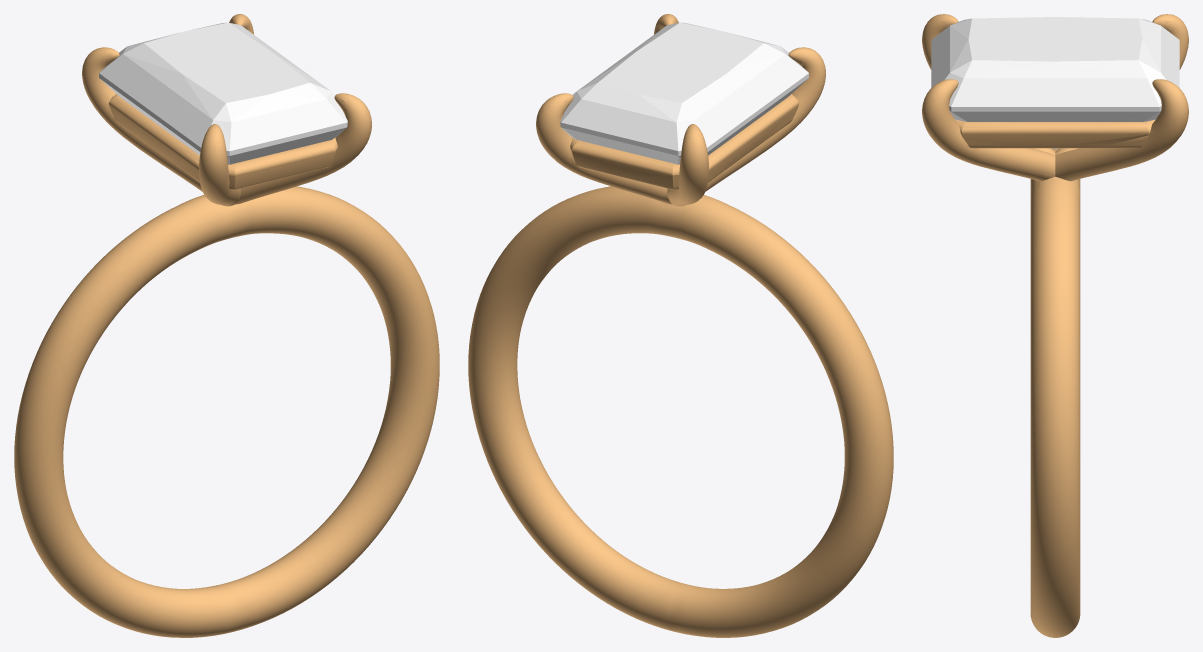
The picture shows the model from 3 angles, left to right: view 1: azimuth 30°, elevation 25°; view 2: azimuth 150°, elevation 25°; view 3: azimuth 270°, elevation 25°; orthographic projection.
Size of the model in its own units: 2.32 by 3 by 1.26.
